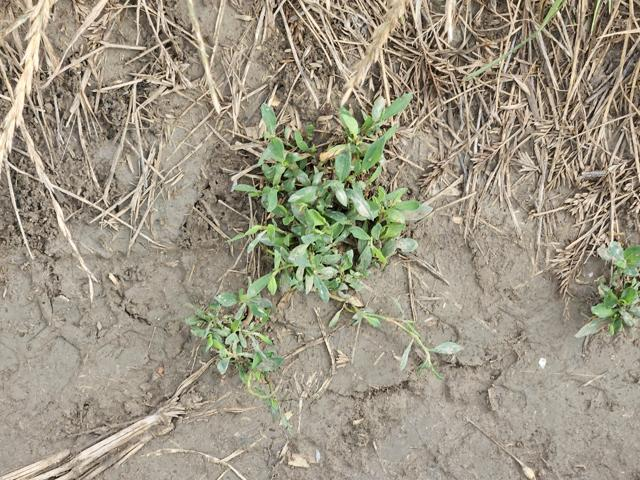bad weed: (177, 81, 415, 383), (572, 230, 640, 348)
